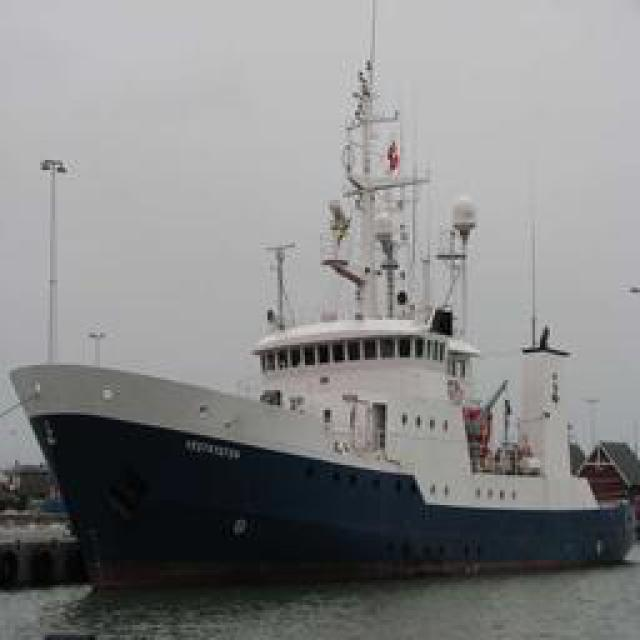Ship: (15, 181, 635, 579)
